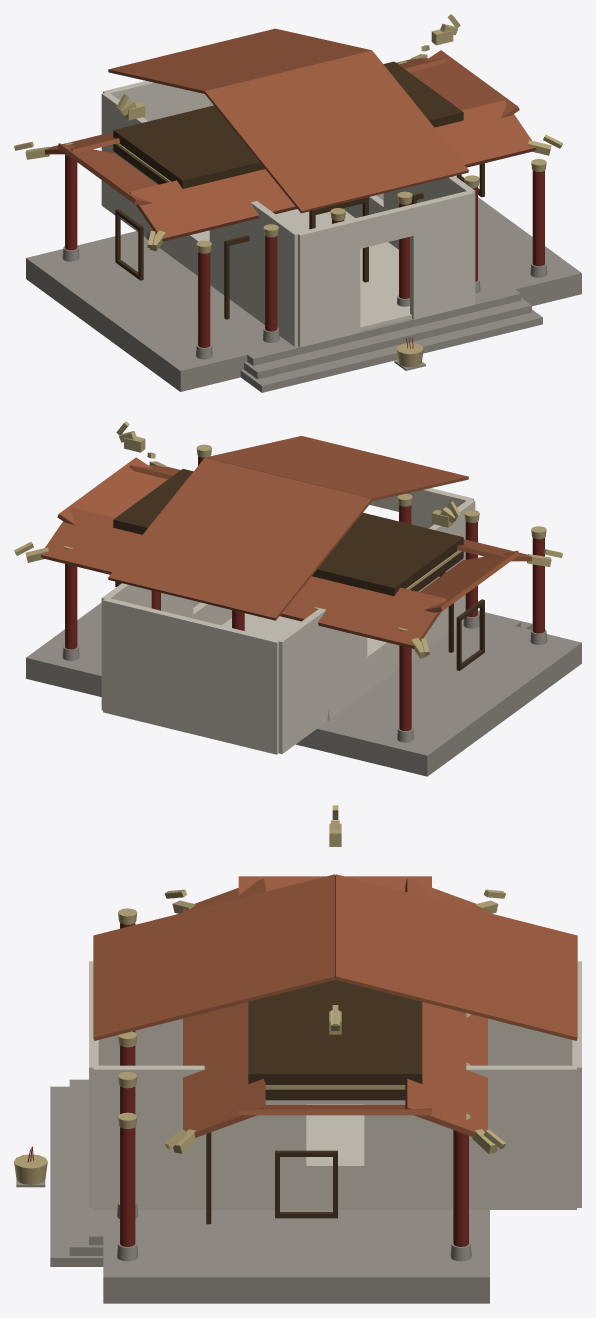
Rendered from ornate-rural-vietnamese-buddhist.glb.
3 renders of one model, top to bottom at view 1: azimuth 30°, elevation 25°; view 2: azimuth 150°, elevation 25°; view 3: azimuth 270°, elevation 25°, orthographic. The views are drawn at different scales.
Parts seen in each view (by area): view 1: Mesh_Plinth, Mesh_TopRoofA, Mesh_LowerFrontRoof, Mesh_ClerestoryWall, Mesh_TopRoofB, Mesh_TempleRoom_WallFront_L, Mesh_TempleRoom_WallFront_R, Mesh_TempleRoom_WallRight_R, Mesh_Step2, Mesh_Step1, Mesh_TempleRoom_Floor, Mesh_LowerLeftRoof (+13 smaller); view 2: Mesh_TopRoofB, Mesh_Plinth, Mesh_TempleRoom_WallBack, Mesh_LowerBackRoof, Mesh_ClerestoryWall, Mesh_TempleRoom_WallRight_L, Mesh_TopRoofA, Mesh_LowerLeftRoof, Mesh_LowerRightRoof, Mesh_TempleRoom_WallRight_R, Mesh_TempleRoom_WallLeft_L, Mesh_TempleRoom_WallFront_R (+7 smaller); view 3: Mesh_Plinth, Mesh_TopRoofA, Mesh_TopRoofB, Mesh_TempleRoom_WallLeft_L, Mesh_TempleRoom_WallLeft_R, Mesh_ClerestoryWall, Mesh_LowerFrontRoof, Mesh_LowerBackRoof, Mesh_Step1, Mesh_Step2, Mesh_TempleRoom_WallRight_L, Mesh_TempleRoom_WallLeft_Sill (+11 smaller).
Boxes of the visible parts, left/top/right/bottom form: Mesh_Plinth: left=26, top=193, right=581, bottom=391; Mesh_TopRoofA: left=205, top=50, right=468, bottom=213; Mesh_LowerFrontRoof: left=129, top=100, right=536, bottom=241; Mesh_ClerestoryWall: left=113, top=61, right=463, bottom=188; Mesh_TopRoofB: left=108, top=28, right=371, bottom=93; Mesh_TempleRoom_WallFront_L: left=410, top=190, right=473, bottom=319; Mesh_TempleRoom_WallFront_R: left=297, top=218, right=360, bottom=347; Mesh_TempleRoom_WallRight_R: left=209, top=201, right=300, bottom=346; Mesh_Step2: left=244, top=298, right=531, bottom=379; Mesh_Step1: left=240, top=309, right=542, bottom=392; Mesh_TempleRoom_Floor: left=197, top=209, right=411, bottom=330; Mesh_LowerLeftRoof: left=409, top=50, right=519, bottom=117; Mesh_TopRoofB: left=108, top=458, right=371, bottom=620; Mesh_Plinth: left=26, top=600, right=581, bottom=776; Mesh_TempleRoom_WallBack: left=103, top=598, right=279, bottom=754; Mesh_LowerBackRoof: left=40, top=507, right=447, bottom=648; Mesh_ClerestoryWall: left=113, top=469, right=463, bottom=595; Mesh_TempleRoom_WallRight_L: left=276, top=608, right=367, bottom=753; Mesh_TopRoofA: left=205, top=436, right=468, bottom=501; Mesh_LowerLeftRoof: left=57, top=457, right=167, bottom=525; Mesh_LowerRightRoof: left=419, top=550, right=519, bottom=612; Mesh_TempleRoom_WallRight_R: left=390, top=500, right=475, bottom=674; Mesh_TempleRoom_WallLeft_L: left=101, top=583, right=193, bottom=710; Mesh_TempleRoom_WallFront_R: left=410, top=488, right=473, bottom=528; Mesh_Plinth: left=103, top=1210, right=489, bottom=1303; Mesh_TopRoofA: left=93, top=874, right=335, bottom=1040; Mesh_TopRoofB: left=335, top=874, right=577, bottom=1040; Mesh_TempleRoom_WallLeft_L: left=364, top=1065, right=576, bottom=1209; Mesh_TempleRoom_WallLeft_R: left=93, top=1065, right=306, bottom=1209; Mesh_ClerestoryWall: left=248, top=980, right=422, bottom=1100; Mesh_LowerFrontRoof: left=183, top=878, right=265, bottom=1137; Mesh_LowerBackRoof: left=405, top=878, right=487, bottom=1137; Mesh_Step1: left=50, top=1086, right=103, bottom=1266; Mesh_Step2: left=69, top=1079, right=103, bottom=1255; Mesh_TempleRoom_WallRight_L: left=488, top=1018, right=572, bottom=1065; Mesh_TempleRoom_WallLeft_Sill: left=305, top=1162, right=365, bottom=1209.
Bounding box in the file's own units: 12.42 × 6.3 × 11.75.
Materials: 4 (4 with a texture image).
